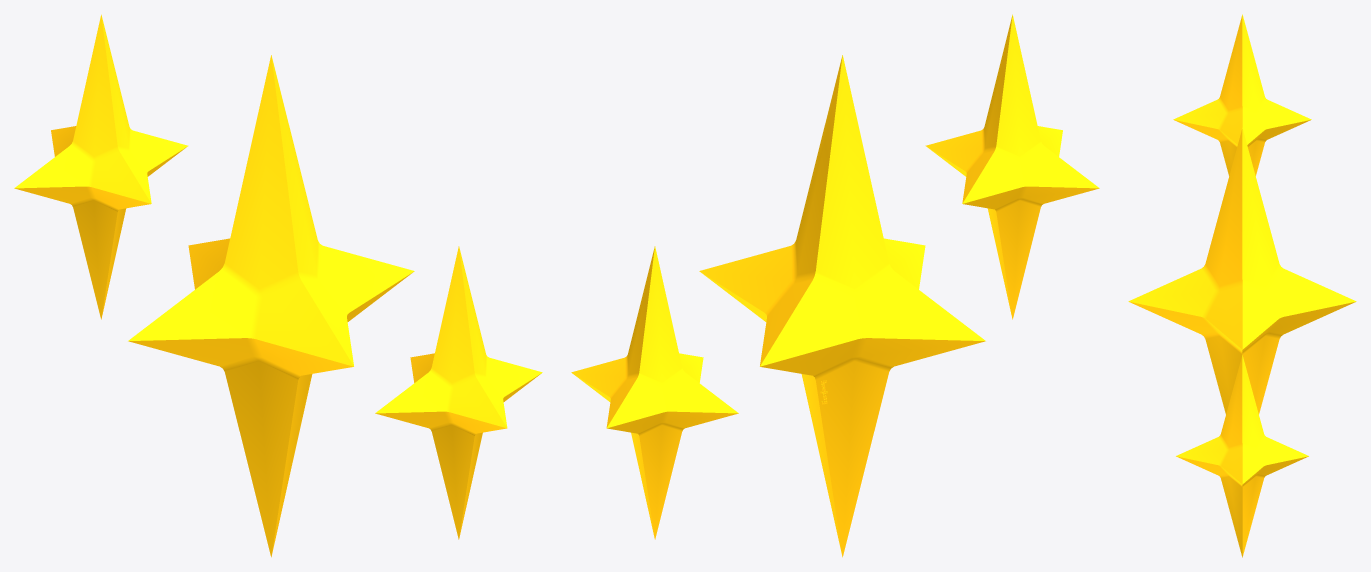
File: sparkles.gltf
3 views of the same model, side by side, from view 1: azimuth 30°, elevation 25°; view 2: azimuth 150°, elevation 25°; view 3: azimuth 270°, elevation 25° (orthographic). The views are drawn at different scales.
Parts seen in each view (by area): view 1: Cube.227; view 2: Cube.227; view 3: Cube.227.
Part boxes in pixels (x1,y1,x2,y2): Cube.227: (14,14,542,557); Cube.227: (571,14,1099,557); Cube.227: (1128,14,1356,557).
Size of the model in its own units: 1.88 by 2.08 by 1.02.
1 material, 1 textured.
